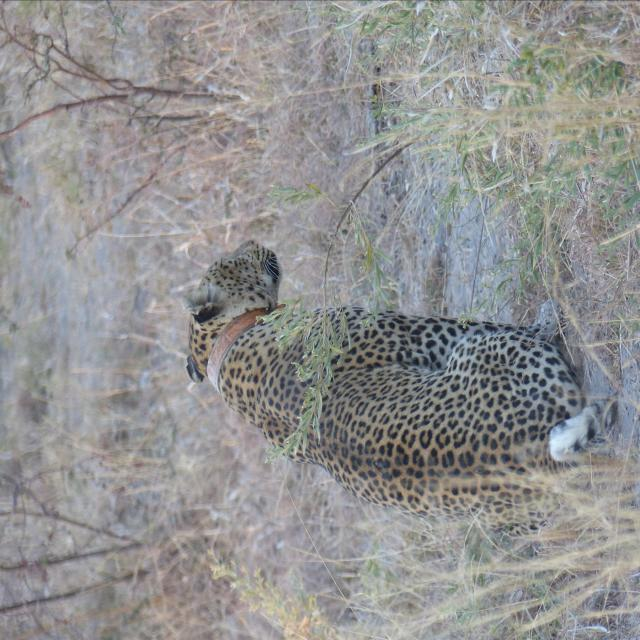Leopard: (75, 174, 406, 597)
